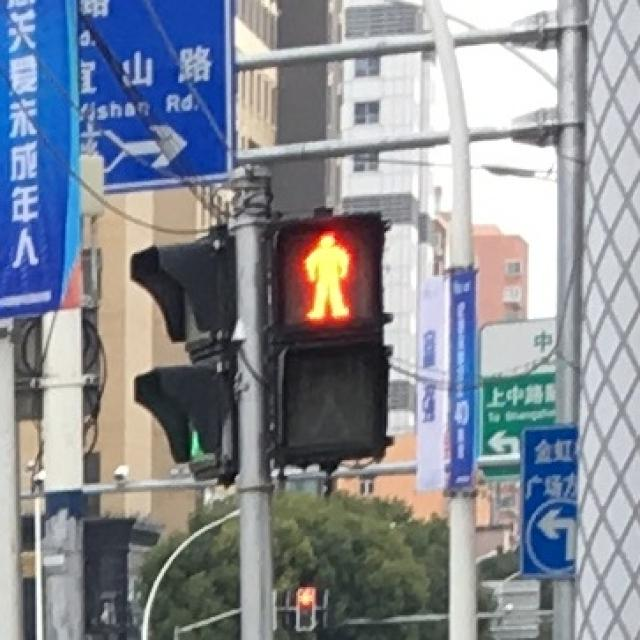red_light: (277, 219, 379, 326)
